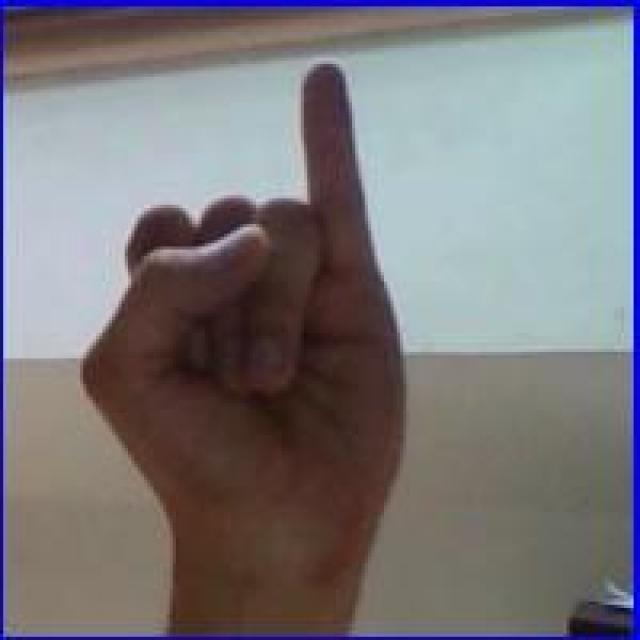I: (75, 53, 405, 622)
